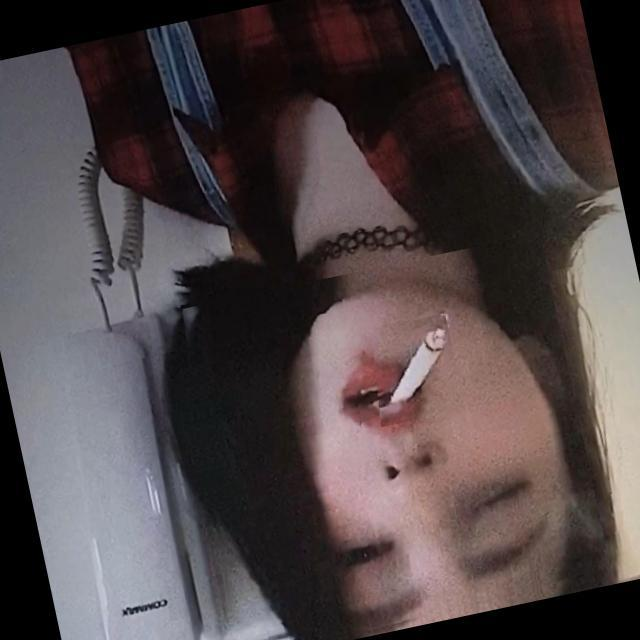cigarette: (360, 312, 465, 428)
